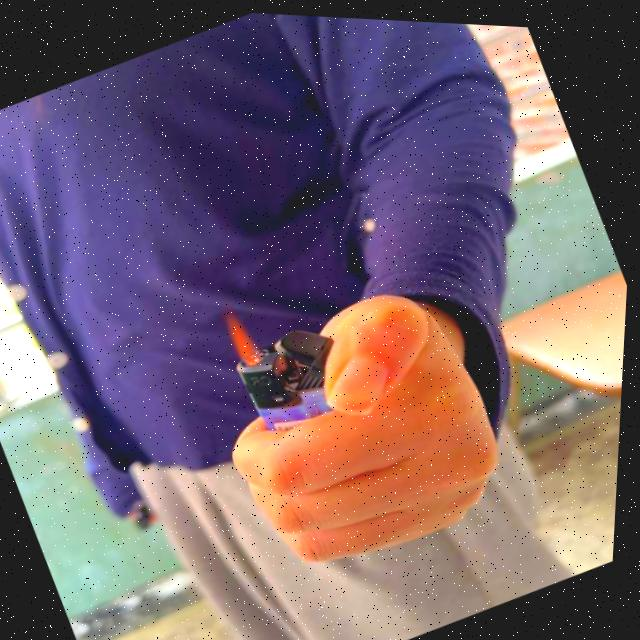Fire: (221, 301, 273, 367)
